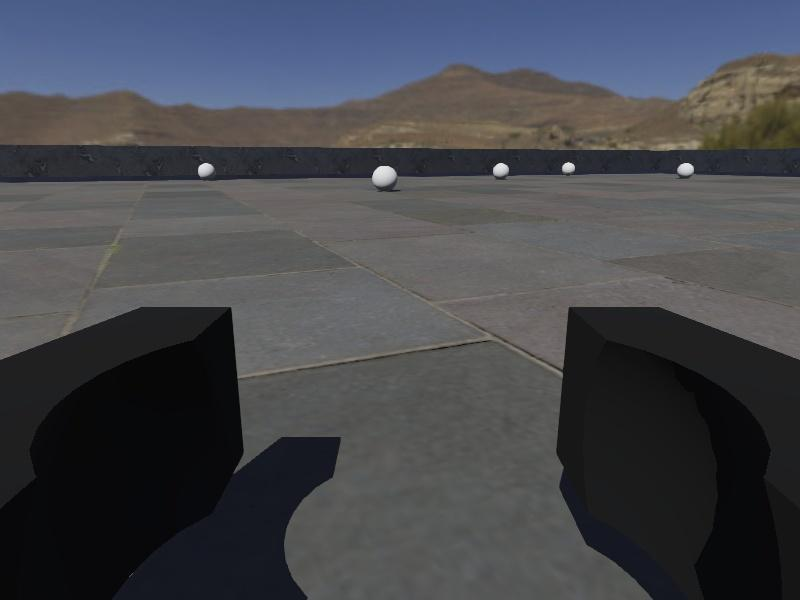white ball: (372, 163, 398, 192), (198, 162, 215, 180), (677, 162, 695, 178), (492, 162, 508, 179), (562, 161, 575, 175)
